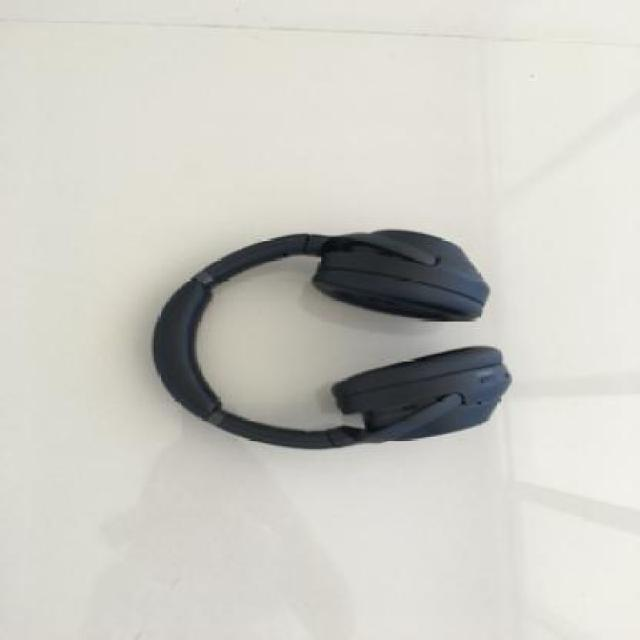earphone: (155, 99, 525, 524)
